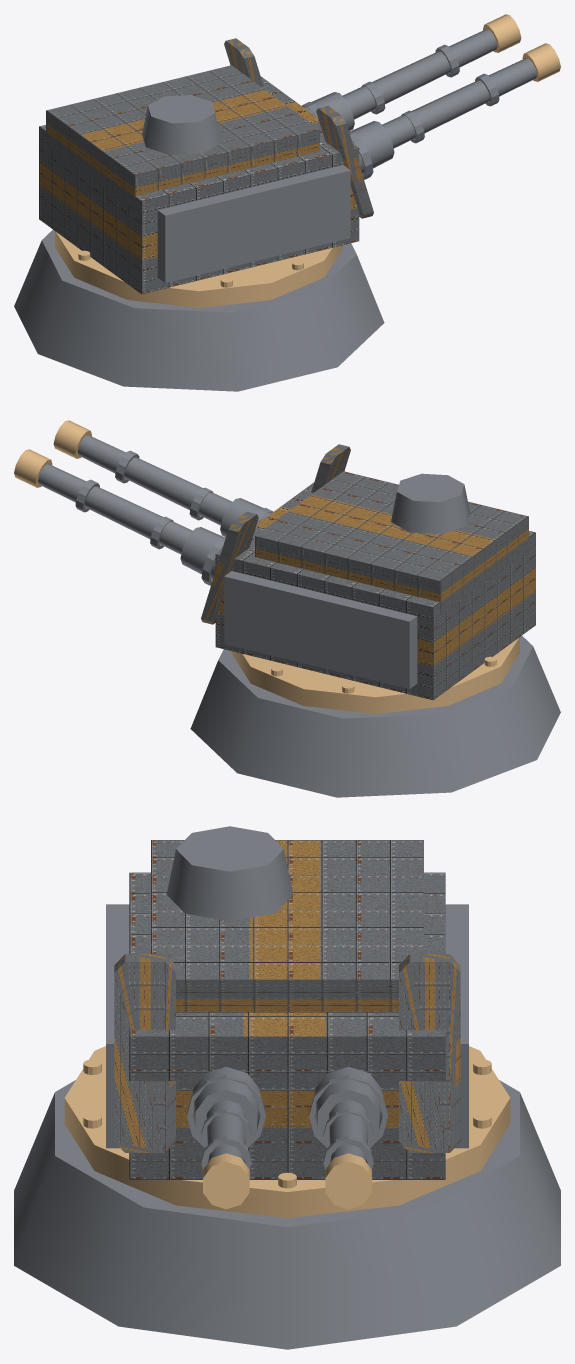
File: flak_turret.glb
3 renders of one model, top to bottom at view 1: azimuth 30°, elevation 25°; view 2: azimuth 150°, elevation 25°; view 3: azimuth 270°, elevation 25°, orthographic. The views are drawn at different scales.
Parts seen in each view (by area): view 1: flak_turret; view 2: flak_turret; view 3: flak_turret.
Boxes of the visible parts, x1,y1,x2,y2 form: flak_turret: (14,14,560,391); flak_turret: (14,420,560,797); flak_turret: (14,826,560,1349).
Bounding box in the file's own units: 12.34 × 5.4 × 7.61.
3 materials, 1 textured.
